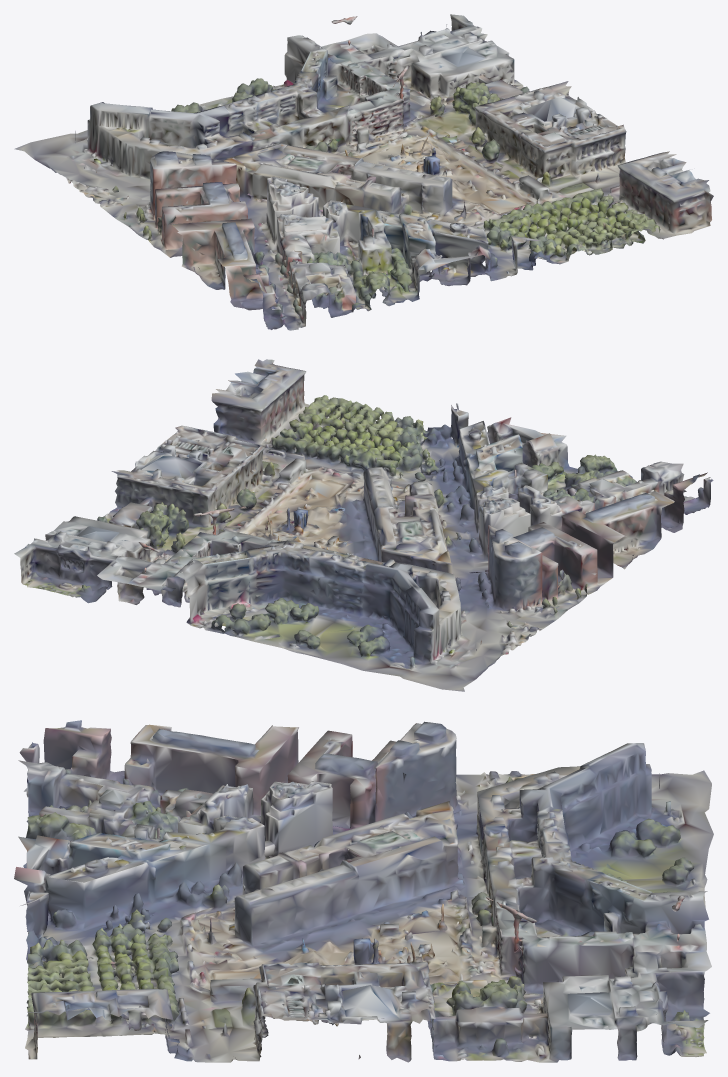
Rendered from tile-3898_58185.glb.
3 renders of one model, top to bottom at view 1: azimuth 30°, elevation 25°; view 2: azimuth 150°, elevation 25°; view 3: azimuth 270°, elevation 25°, orthographic. The views are drawn at different scales.
Visible parts, largest first — view 1: world; view 2: world; view 3: world.
Boxes of the visible parts, x1,y1,x2,y2 form: world: [14, 14, 713, 330]; world: [14, 359, 713, 691]; world: [14, 720, 713, 1062].
Bounding box in the file's own units: 375 × 52.69 × 374.
